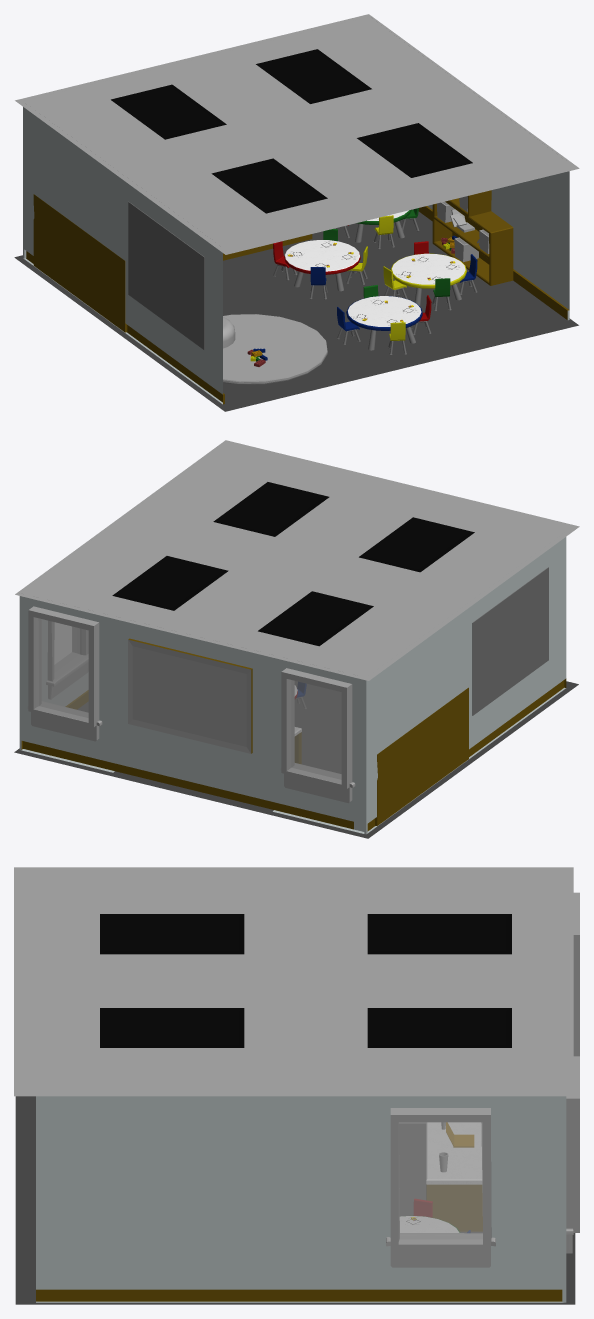
File: DatNewNew.fbx
The picture shows the model from 3 angles, top to bottom: view 1: azimuth 30°, elevation 25°; view 2: azimuth 150°, elevation 25°; view 3: azimuth 270°, elevation 25°; orthographic projection. The views are drawn at different scales.
Parts seen in each view (by area): view 1: Floor1, Floor, Walls, WhiteBoard, Cubby, ReadingArea_Carpet, BookShelf_Bottom, Light2, Light4, Light3, Light1, Table_Red (+3 smaller); view 2: Floor1, Walls, FramedPhoto, Window_Left, Window_Right, WhiteBoard, Floor, Cubby, Light4, Light1, Light2, Light3 (+1 smaller); view 3: Floor1, Walls, Window_RightWall, Floor, Light1, Light4, Light2, Light3, Desk_Teacher, Window_Right, BookShelf_Bottom, Window_Left (+1 smaller).
Part boxes in pixels (box(x1,y1,x2,y2)): Floor1: box(15, 14, 579, 254); Floor: box(14, 209, 578, 411); Walls: box(23, 107, 569, 404); WhiteBoard: box(128, 201, 204, 350); Cubby: box(33, 194, 127, 332); ReadingArea_Carpet: box(223, 314, 327, 384); BookShelf_Bottom: box(432, 201, 513, 285); Light2: box(256, 49, 371, 103); Light4: box(211, 158, 327, 213); Light3: box(357, 123, 472, 177); Light1: box(111, 84, 226, 139); Table_Red: box(284, 240, 360, 274); Floor1: box(15, 440, 579, 680); Walls: box(19, 537, 566, 834); FramedPhoto: box(128, 638, 252, 753); Window_Left: box(280, 668, 355, 803); Window_Right: box(27, 606, 102, 741); WhiteBoard: box(472, 567, 548, 715); Floor: box(14, 681, 578, 838); Cubby: box(375, 687, 468, 825); Light4: box(359, 517, 474, 572); Light1: box(258, 591, 373, 646); Light2: box(112, 556, 228, 610); Light3: box(213, 482, 329, 536); Floor1: box(14, 867, 573, 1096); Walls: box(36, 1096, 566, 1302); Window_RightWall: box(386, 1108, 495, 1267); Floor: box(15, 1096, 575, 1304); Light1: box(367, 914, 511, 954); Light4: box(100, 914, 244, 954); Light2: box(367, 1008, 511, 1047); Light3: box(100, 1008, 244, 1047); Desk_Teacher: box(426, 1122, 482, 1231); Window_Right: box(566, 1056, 579, 1253); BookShelf_Bottom: box(180, 1289, 334, 1301); Window_Left: box(573, 892, 579, 1056).
Size of the model in its own units: 23.24 by 9.67 by 23.68.
Materials: 24 (8 with a texture image).
